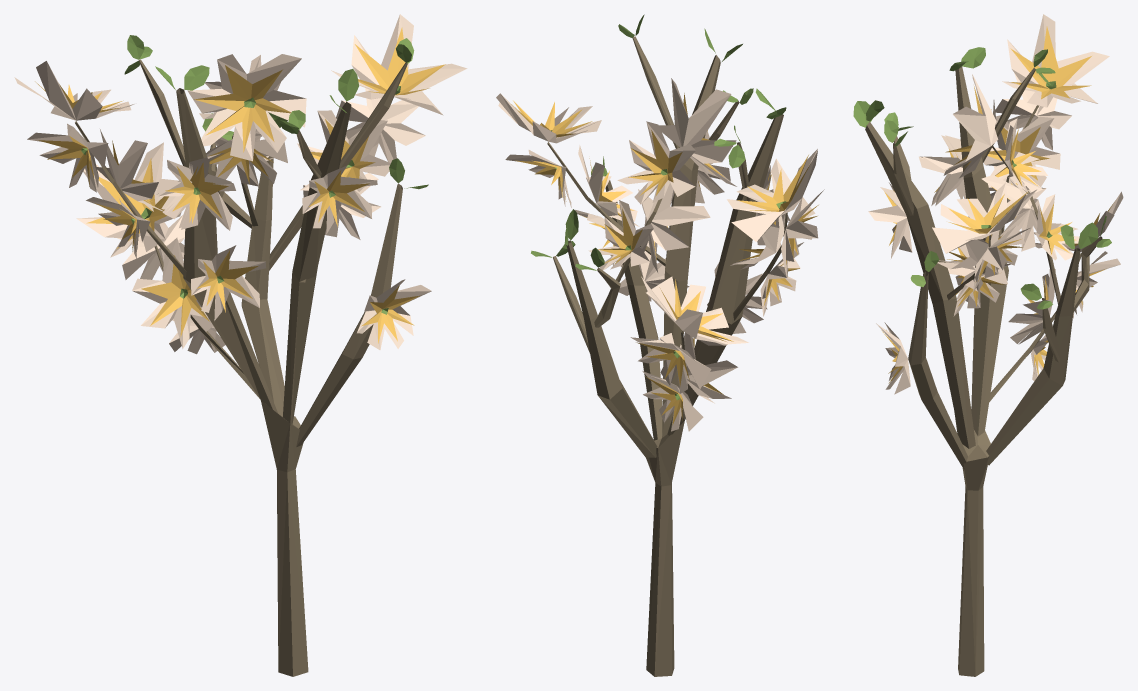
Rendered from Cherry_3_2.fbx.
3 views of the same model, side by side, from view 1: azimuth 30°, elevation 25°; view 2: azimuth 150°, elevation 25°; view 3: azimuth 270°, elevation 25° (orthographic). The views are drawn at different scales.
Parts seen in each view (by area): view 1: Cherry_3_2; view 2: Cherry_3_2; view 3: Cherry_3_2.
Boxes of the visible parts, <box> form: Cherry_3_2: <box>14,14,467,676</box>; Cherry_3_2: <box>496,14,824,676</box>; Cherry_3_2: <box>853,14,1123,676</box>.
Size of the model in its own units: 216 by 343 by 145.
